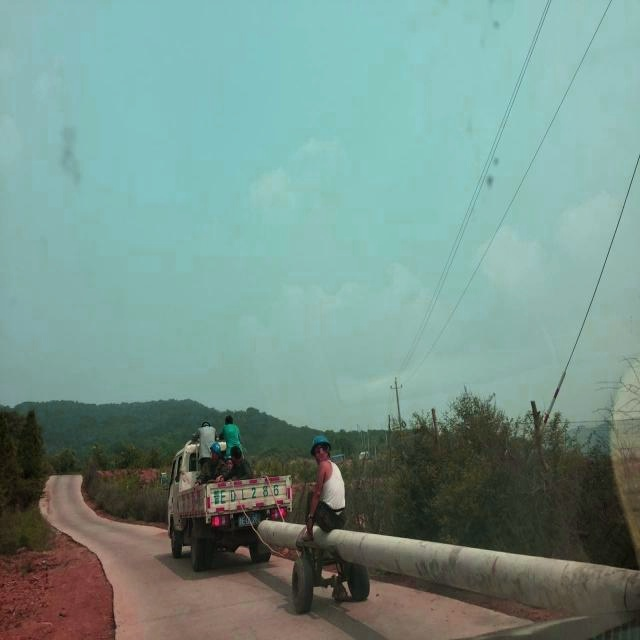Con_Casco: (310, 434, 331, 458)
